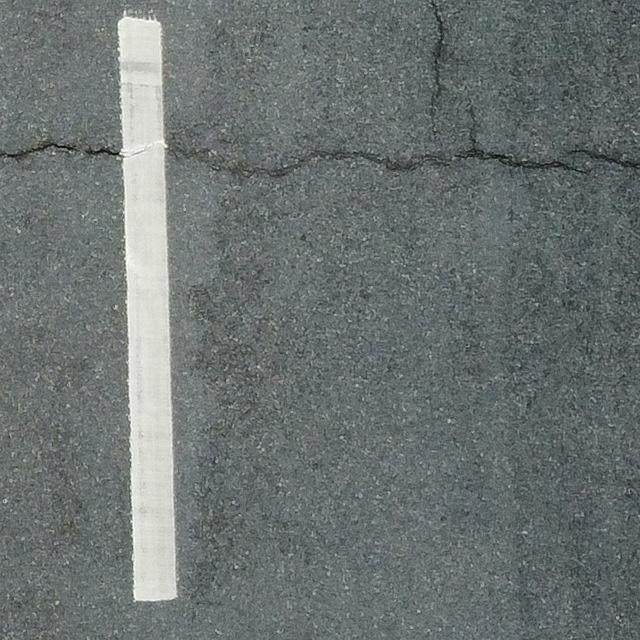LongitudinalCrack: (426, 1, 448, 118)
TransverseCrack: (1, 124, 640, 178)
